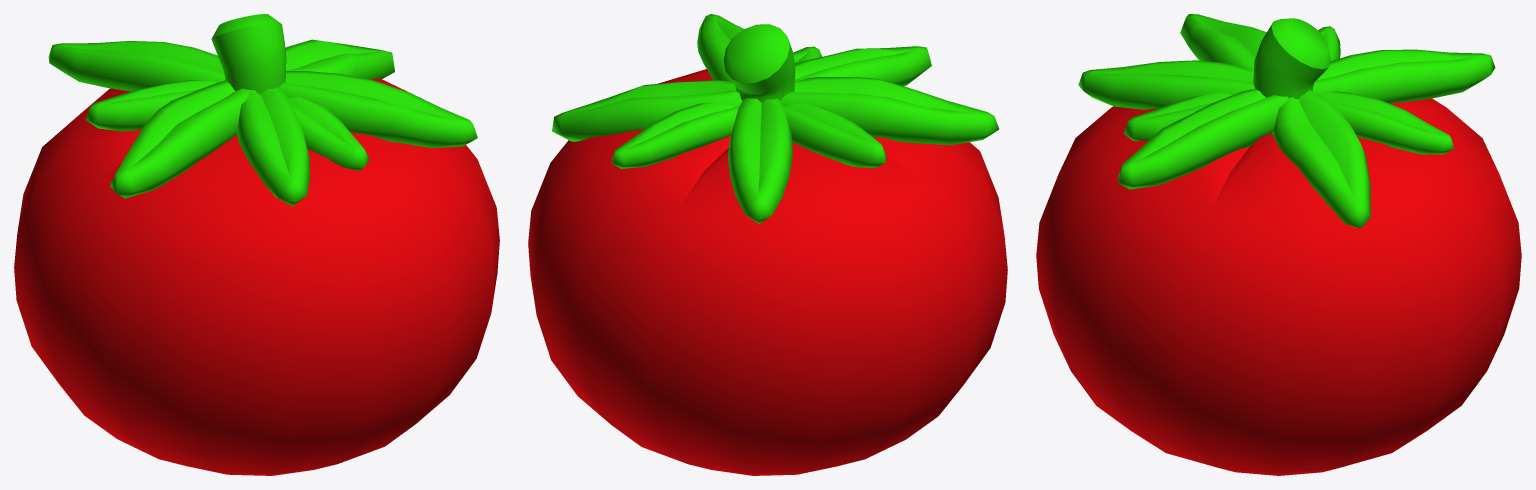
The model's file is Tomato.fbx.
3 renders of one model, left to right at view 1: azimuth 30°, elevation 25°; view 2: azimuth 150°, elevation 25°; view 3: azimuth 270°, elevation 25°, orthographic.
Visible parts, largest first — view 1: Tomatoes_V1_00; view 2: Tomatoes_V1_00; view 3: Tomatoes_V1_00.
Part boxes in pixels (x1=…): Tomatoes_V1_00: x1=14, y1=14, x2=499, y2=475; Tomatoes_V1_00: x1=528, y1=14, x2=1007, y2=475; Tomatoes_V1_00: x1=1036, y1=14, x2=1521, y2=475.
Bounding box in the file's own units: 3221 × 3081 × 3221.
